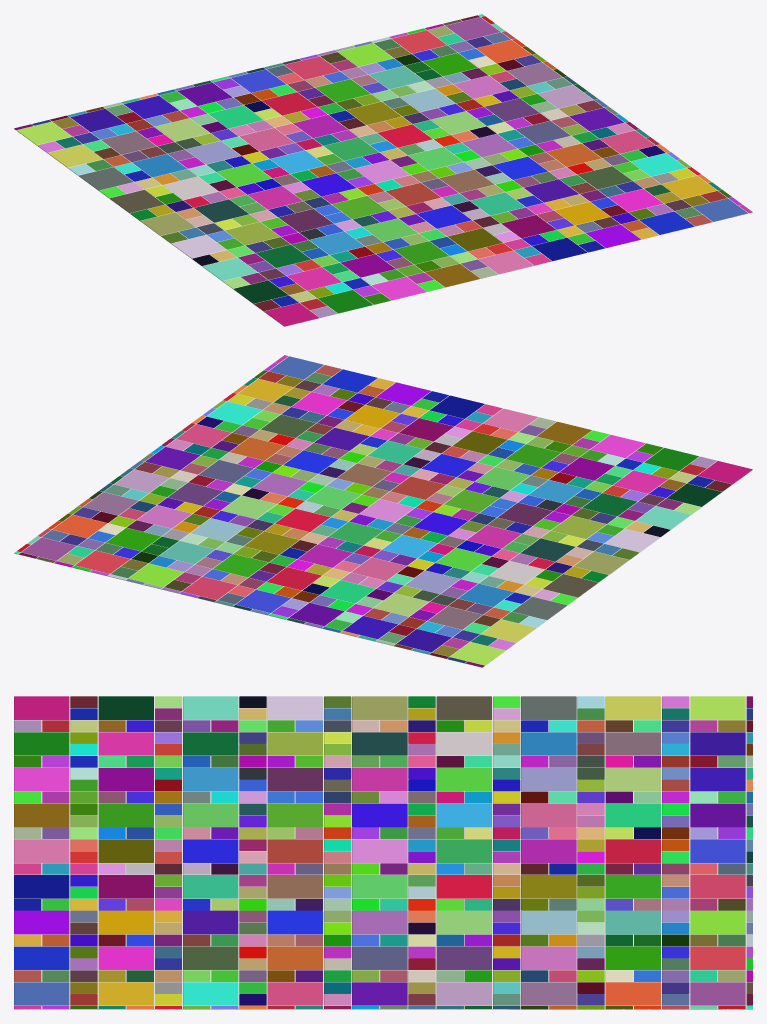
The model's file is generic_floor03.fbx.
3 renders of one model, top to bottom at view 1: azimuth 30°, elevation 25°; view 2: azimuth 150°, elevation 25°; view 3: azimuth 270°, elevation 25°, orthographic. The views are drawn at different scales.
Parts seen in each view (by area): view 1: Floor; view 2: Floor; view 3: Floor.
Boxes of the visible parts, x1,y1,x2,y2 form: Floor: [14, 14, 752, 326]; Floor: [14, 355, 752, 667]; Floor: [14, 696, 752, 1009].
Bounding box in the file's own units: 400 × 400 × 0.5.
